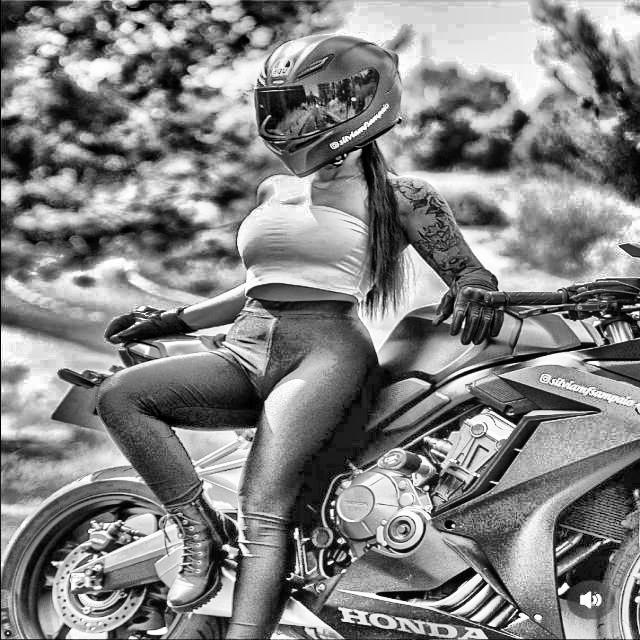Helmet: (248, 28, 414, 184)
